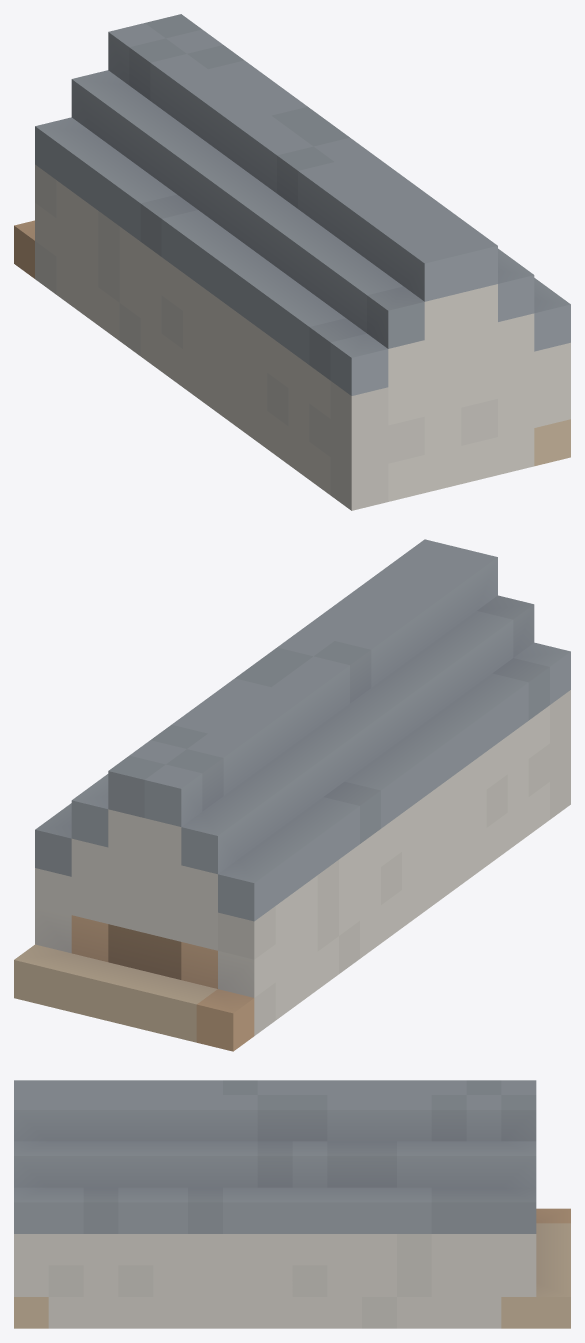
File: salt_mine.lite.glb
3 views of the same model, one above another, from view 1: azimuth 30°, elevation 25°; view 2: azimuth 150°, elevation 25°; view 3: azimuth 270°, elevation 25° (orthographic). The views are drawn at different scales.
Parts seen in each view (by area): view 1: salt_mine; view 2: salt_mine; view 3: salt_mine.
Boxes of the visible parts, left/top/right/bottom form: salt_mine: left=14, top=14, right=570, bottom=510; salt_mine: left=14, top=539, right=570, bottom=1051; salt_mine: left=14, top=1080, right=570, bottom=1328.
Size of the model in its own units: 3 by 3 by 8.
